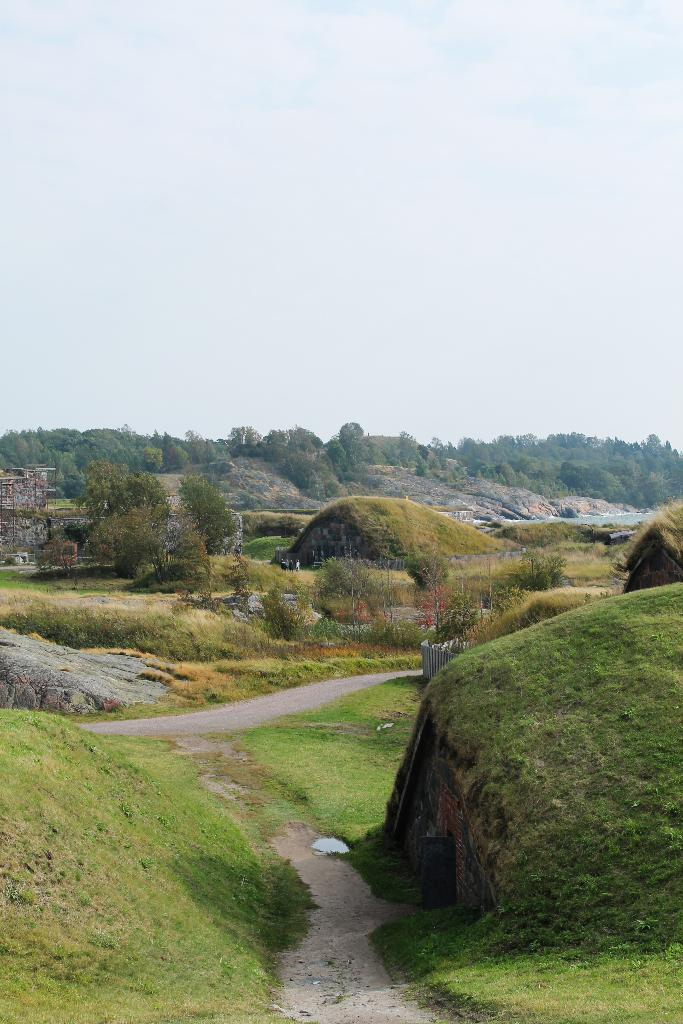Tree: (48, 455, 247, 588), (484, 426, 682, 506), (0, 424, 179, 480), (255, 430, 342, 498), (323, 419, 398, 484), (179, 419, 271, 461), (435, 437, 496, 473), (395, 424, 429, 473)
